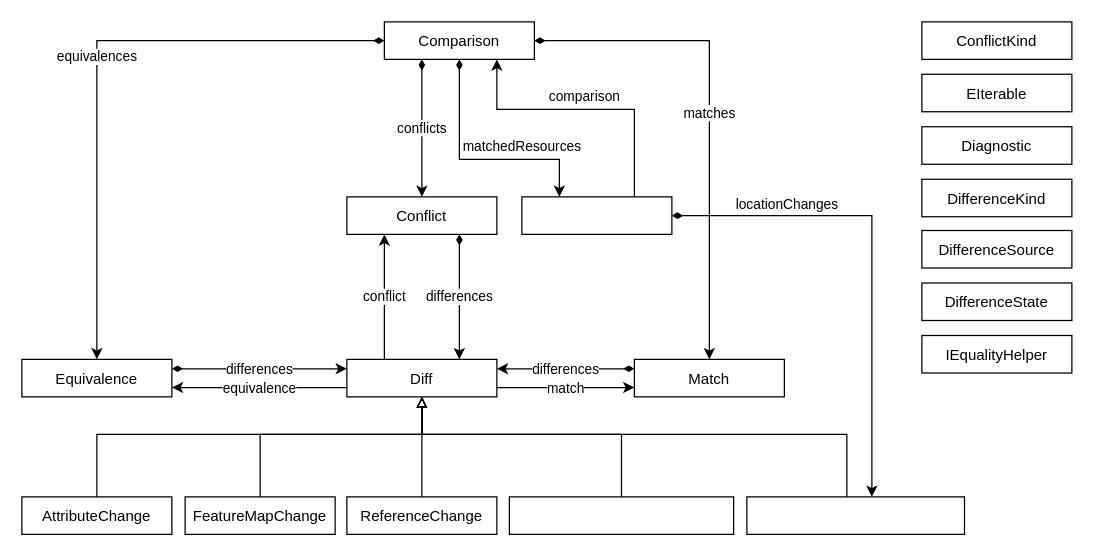
This 1094x556 diagram has some shape labels left out. Each missing label, with the centre of its shape:
MatchResource: point (596, 215)
ResourceAttachmentChange: point (621, 515)
ResourceLocationChange: point (855, 515)
